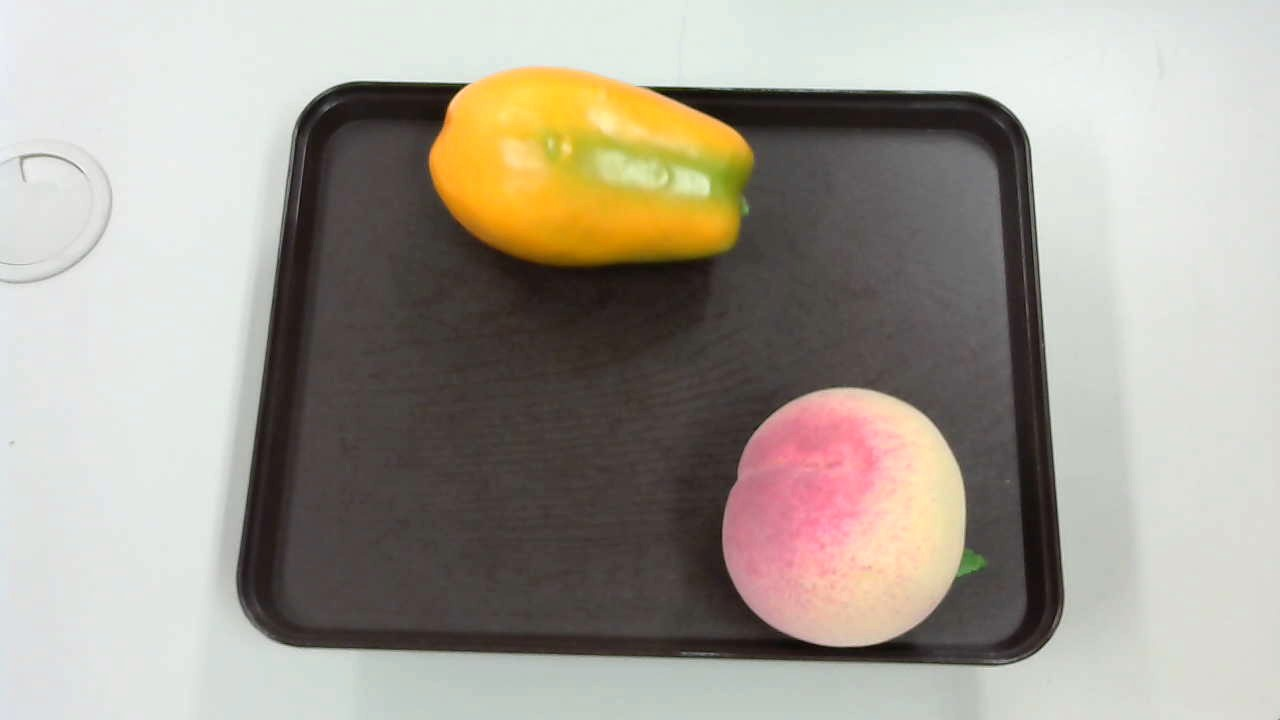papya: (430, 62, 756, 276)
peach: (710, 386, 995, 656)
